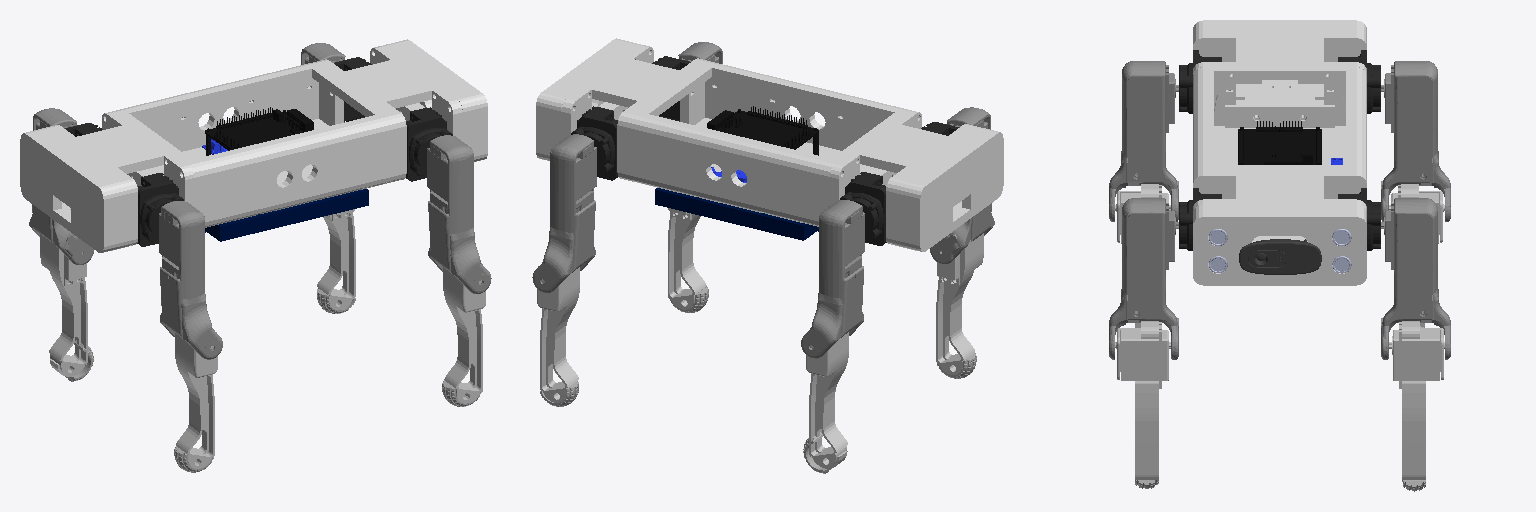
--- Facts derived from the render (not from the file) ---
Views: 3 orthographic renders of the robot side by side, from view 1: azimuth 30°, elevation 25°; view 2: azimuth 150°, elevation 25°; view 3: azimuth 270°, elevation 25°.
Model robot with 25 links and 24 joints (12 revolute, 12 fixed), rooted at base_link, posed all joints at 0.
Visible links, largest first — view 1: base_link, front_right_up_leg, back_right_up_leg, back_left_down_leg, back_right_down_leg, front_right_down_leg, bat, mcu, front_left_down_leg, back_left_up_leg, back_right_hip, front_right_hip (+2 smaller); view 2: base_link, front_left_up_leg, back_left_up_leg, back_right_down_leg, back_left_down_leg, front_left_down_leg, bat, mcu, front_right_down_leg, back_right_up_leg, back_left_hip, front_left_hip (+2 smaller); view 3: base_link, front_right_up_leg, front_left_up_leg, back_left_up_leg, back_right_up_leg, front_right_down_leg, front_left_down_leg, mcu, camera, front_left_hip, front_right_hip, back_left_hip (+3 smaller).
Link boxes in pixels (box(x1,y1,x2,y2)): base_link: box(20, 39, 487, 252); front_right_up_leg: box(427, 135, 491, 293); back_right_up_leg: box(159, 201, 222, 359); back_left_down_leg: box(40, 234, 87, 376); back_right_down_leg: box(175, 332, 217, 468); front_right_down_leg: box(443, 267, 485, 403); bat: box(205, 189, 368, 241); mcu: box(205, 107, 313, 155); front_left_down_leg: box(317, 209, 355, 309); back_left_up_leg: box(29, 108, 93, 264); back_right_hip: box(137, 173, 183, 246); front_right_hip: box(406, 107, 452, 181); base_link: box(536, 38, 1003, 251); front_left_up_leg: box(532, 134, 596, 292); back_left_up_leg: box(801, 200, 864, 358); back_right_down_leg: box(936, 233, 983, 374); back_left_down_leg: box(806, 332, 848, 468); front_left_down_leg: box(537, 266, 579, 402); bat: box(655, 188, 818, 240); mcu: box(707, 106, 818, 155); front_right_down_leg: box(668, 208, 706, 309); back_right_up_leg: box(930, 107, 994, 263); back_left_hip: box(840, 172, 886, 245); front_left_hip: box(571, 106, 617, 180); base_link: box(1193, 20, 1366, 285); front_right_up_leg: box(1109, 198, 1178, 359); front_left_up_leg: box(1381, 198, 1450, 359); back_left_up_leg: box(1381, 61, 1450, 221); back_right_up_leg: box(1109, 61, 1178, 221); front_right_down_leg: box(1115, 321, 1170, 479); front_left_down_leg: box(1389, 321, 1444, 481); mcu: box(1238, 121, 1321, 164); camera: box(1239, 239, 1321, 274); front_left_hip: box(1338, 188, 1380, 250); front_right_hip: box(1179, 188, 1221, 250); back_left_hip: box(1338, 50, 1380, 113).
Size in the robot's own frame: 0.4168 by 0.294 by 0.2826 metres.
Meshes: 25 distinct files referenced, 23 mesh visuals loaded (23 binary STL); not drawn: 2 (reference not matched to a file when rendering).

URDF robot description (robot):
<?xml version="1.0" encoding="utf-8"?>
<!-- This URDF was automatically created by SolidWorks to URDF Exporter! Originally created by Stephen Brawner ([email redacted]) 
     Commit Version: 1.6.0-1-g15f4949  Build Version: 1.6.7594.29634
     For more information, please see http://wiki.ros.org/sw_urdf_exporter -->
<robot
  name="">
  <link
    name="base_link">
    <inertial>
      <origin
        xyz="-2.94569196078176E-05 -3.10940475542129E-06 6.73862554313176E-05"
        rpy="0 0 0" />
      <mass
        value="0.83802" />
      <inertia
        ixx="0.00298196475482295"
        ixy="2.02371463401472E-08"
        ixz="-5.51629935704672E-05"
        iyy="0.00546851882943497"
        iyz="1.4380872450524E-08"
        izz="0.008140876996753" />
    </inertial>
    <visual>
      <origin
        xyz="0 0 0"
        rpy="0 0 0" />
      <geometry>
        <mesh
          filename="../Parts/base_link.STL" />
      </geometry>
      <material
        name="light_grey">
        <color
          rgba="0.9 0.9 0.9 1" />
      </material>
    </visual>
    <collision>
      <origin
        xyz="0 0 0"
        rpy="0 0 0" />
      <geometry>
        <mesh
          filename="../Parts/base_link.STL" />
      </geometry>
    </collision>
  </link>
  <link
    name="jetson">
    <inertial>
      <origin
        xyz="0.000137608891496221 0.000561547209728749 0.00285915771597062"
        rpy="0 0 0" />
      <mass
        value="0.2192" />
      <inertia
        ixx="3.47872013887729E-05"
        ixy="-4.17333287250443E-08"
        ixz="4.4289773664267E-08"
        iyy="1.21851888640573E-05"
        iyz="1.70963570877999E-08"
        izz="4.49402840854233E-05" />
    </inertial>
    <visual>
      <origin
        xyz="0 0 0"
        rpy="0 0 0" />
      <geometry>
        <mesh
          filename="../Parts/jetson.STL" />
      </geometry>
      <material
        name="green">
        <color
          rgba="0.4 0.8 0.01 1" />
      </material>
    </visual>
    <collision>
      <origin
        xyz="0 0 0"
        rpy="0 0 0" />
      <geometry>
        <mesh
          filename="../Parts/jetson.STL" />
      </geometry>
    </collision>
  </link>
  <joint
    name="base_jetson"
    type="fixed">
    <origin
      xyz="-0.06945 0.00131 0.02123"
      rpy="0 0 0" />
    <parent
      link="base_link" />
    <child
      link="jetson" />
    <axis
      xyz="0 0 0" />
  </joint>
  <link
    name="mcu">
    <inertial>
      <origin
        xyz="0.00051378 0.00015168 0.0025873"
        rpy="0 0 0" />
      <mass
        value="0.0514" />
      <inertia
        ixx="6.5721E-06"
        ixy="-3.3312E-07"
        ixz="-2.1562E-07"
        iyy="9.2199E-06"
        iyz="-4.7218E-08"
        izz="1.5389E-05" />
    </inertial>
    <visual>
      <origin
        xyz="0 0 0"
        rpy="0 0 0" />
      <geometry>
        <mesh
          filename="../Parts/mcu.STL" />
      </geometry>
      <material
        name="black">
        <color
          rgba="0.1 0.1 0.1 1" />
      </material>
    </visual>
    <collision>
      <origin
        xyz="0 0 0"
        rpy="0 0 0" />
      <geometry>
        <mesh
          filename="../Parts/mcu.STL" />
      </geometry>
    </collision>
  </link>
  <joint
    name="base_mcu"
    type="fixed">
    <origin
      xyz="0.01363 0.000599999999999989 0.00877999999999995"
      rpy="0 0 0" />
    <parent
      link="base_link" />
    <child
      link="mcu" />
    <axis
      xyz="0 0 0" />
  </joint>
  <link
    name="DC_conv_1">
    <inertial>
      <origin
        xyz="0.000670364608051921 -2.55568593113958E-06 0.00406176040460596"
        rpy="0 0 0" />
      <mass
        value="0.0238" />
      <inertia
        ixx="3.50269405411989E-07"
        ixy="-1.36827641831623E-10"
        ixz="9.21474560580672E-10"
        iyy="7.90837129451917E-07"
        iyz="1.01038593492602E-10"
        izz="1.06490178388781E-06" />
    </inertial>
    <visual>
      <origin
        xyz="0 0 0"
        rpy="0 0 0" />
      <geometry>
        <mesh
          filename="../Parts/DC_conv_1.STL" />
      </geometry>
      <material
        name="blue">
        <color
          rgba="0.2 0.3 1 1" />
      </material>
    </visual>
    <collision>
      <origin
        xyz="0 0 0"
        rpy="0 0 0" />
      <geometry>
        <mesh
          filename="../Parts/DC_conv_1.STL" />
      </geometry>
    </collision>
  </link>
  <joint
    name="base_DC_1"
    type="fixed">
    <origin
      xyz="0.0121341052042018 -0.0485040375014079 -0.0188053898665228"
      rpy="0 0 0" />
    <parent
      link="base_link" />
    <child
      link="DC_conv_1" />
    <axis
      xyz="0 0 0" />
  </joint>
  <link
    name="DC_conv_2">
    <inertial>
      <origin
        xyz="0.00067036 -2.5557E-06 0.0040618"
        rpy="0 0 0" />
      <mass
        value="0.0238" />
      <inertia
        ixx="3.5027E-07"
        ixy="-1.3683E-10"
        ixz="9.2147E-10"
        iyy="7.9084E-07"
        iyz="1.0104E-10"
        izz="1.0649E-06" />
    </inertial>
    <visual>
      <origin
        xyz="0 0 0"
        rpy="0 0 0" />
      <geometry>
        <mesh
          filename="../Parts/DC_conv_2.STL" />
      </geometry>
      <material
        name="blue">
        <color
          rgba="0.2 0.3 1 1" />
      </material>
    </visual>
    <collision>
      <origin
        xyz="0 0 0"
        rpy="0 0 0" />
      <geometry>
        <mesh
          filename="../Parts/DC_conv_2.STL" />
      </geometry>
    </collision>
  </link>
  <joint
    name="base_DC_2"
    type="fixed">
    <origin
      xyz="0.0121341052042018 0.048495962498592 -0.0188053898665228"
      rpy="0 0 0" />
    <parent
      link="base_link" />
    <child
      link="DC_conv_2" />
    <axis
      xyz="0 0 0" />
  </joint>
  <link
    name="ultra_sonic_1">
    <inertial>
      <origin
        xyz="0.00558307557235826 1.28177494792547E-05 -0.000228092989212475"
        rpy="0 0 0" />
      <mass
        value="0.00694288669267032" />
      <inertia
        ixx="5.11965056965854E-07"
        ixy="9.16570373423732E-11"
        ixz="2.1967103165378E-12"
        iyy="4.28857986674802E-07"
        iyz="-2.20850458248682E-09"
        izz="1.98180461179871E-07" />
    </inertial>
    <visual>
      <origin
        xyz="0 0 0"
        rpy="0 0 0" />
      <geometry>
        <mesh
          filename="../Parts/ultra_sonic_1.STL" />
      </geometry>
      <material
        name="light_grey">
        <color
          rgba="0.792156862745098 0.819607843137255 0.933333333333333 1" />
      </material>
    </visual>
    <collision>
      <origin
        xyz="0 0 0"
        rpy="0 0 0" />
      <geometry>
        <mesh
          filename="../Parts/ultra_sonic_1.STL" />
      </geometry>
    </collision>
  </link>
  <joint
    name="base_us_1"
    type="fixed">
    <origin
      xyz="0.18716187777521 -0.0532040375014079 0.00515717013347716"
      rpy="0 0 0" />
    <parent
      link="base_link" />
    <child
      link="ultra_sonic_1" />
    <axis
      xyz="0 0 0" />
  </joint>
  <link
    name="ultra_sonic_2">
    <inertial>
      <origin
        xyz="0.0055831 -1.2818E-05 0.00022809"
        rpy="0 0 0" />
      <mass
        value="0.0069429" />
      <inertia
        ixx="5.1197E-07"
        ixy="-9.1657E-11"
        ixz="-2.1967E-12"
        iyy="4.2886E-07"
        iyz="-2.2085E-09"
        izz="1.9818E-07" />
    </inertial>
    <visual>
      <origin
        xyz="0 0 0"
        rpy="0 0 0" />
      <geometry>
        <mesh
          filename="../Parts/ultra_sonic_2.STL" />
      </geometry>
      <material
        name="light_grey">
        <color
          rgba="0.79216 0.81961 0.93333 1" />
      </material>
    </visual>
    <collision>
      <origin
        xyz="0 0 0"
        rpy="0 0 0" />
      <geometry>
        <mesh
          filename="../Parts/ultra_sonic_2.STL" />
      </geometry>
    </collision>
  </link>
  <joint
    name="base_us_2"
    type="fixed">
    <origin
      xyz="0.18716187777521 0.0531959624985921 0.00423205013347716"
      rpy="0 0 0" />
    <parent
      link="base_link" />
    <child
      link="ultra_sonic_2" />
    <axis
      xyz="0 0 0" />
  </joint>
  <link
    name="camera">
    <inertial>
      <origin
        xyz="-2.32797888843894E-06 3.79642191226416E-06 1.76688735195607E-06"
        rpy="0 0 0" />
      <mass
        value="0.1" />
      <inertia
        ixx="1.00015128600799E-05"
        ixy="-3.38964337578506E-08"
        ixz="1.59588137361042E-08"
        iyy="2.20492049973851E-06"
        iyz="-3.89124551449252E-09"
        izz="9.11771039364902E-06" />
    </inertial>
    <visual>
      <origin
        xyz="0 0 0"
        rpy="0 0 0" />
      <geometry>
        <mesh
          filename="../Parts/camera.STL" />
      </geometry>
      <material
        name="camera">
        <color
          rgba="0.294117647058824 0.294117647058824 0.294117647058824 1" />
      </material>
    </visual>
    <collision>
      <origin
        xyz="0 0 0"
        rpy="0 0 0" />
      <geometry>
        <mesh
          filename="../Parts/camera.STL" />
      </geometry>
    </collision>
  </link>
  <joint
    name="base_camera"
    type="fixed">
    <origin
      xyz="0.20975 0.000570000000000001 0.00548999999999997"
      rpy="0 0 0" />
    <parent
      link="base_link" />
    <child
      link="camera" />
    <axis
      xyz="0 0 0" />
  </joint>
  <link
    name="front_left_hip">
    <inertial>
      <origin
        xyz="0.0288208993064377 0.00598886915303719 -0.00995005834842239"
        rpy="0 0 0" />
      <mass
        value="0.105" />
      <inertia
        ixx="1.59747547470133E-05"
        ixy="-3.09010191301587E-07"
        ixz="-1.36568497564877E-07"
        iyy="2.11284090419884E-05"
        iyz="1.8250481328111E-08"
        izz="1.23589814930974E-05" />
    </inertial>
    <visual>
      <origin
        xyz="0 0 0"
        rpy="0 0 0" />
      <geometry>
        <mesh
          filename="../Parts/front_left_hip.STL" />
      </geometry>
      <material
        name="light_black">
        <color
          rgba="0.2 0.2 0.2 1" />
      </material>
    </visual>
    <collision>
      <origin
        xyz="0 0 0"
        rpy="0 0 0" />
      <geometry>
        <mesh
          filename="../Parts/front_left_hip.STL" />
      </geometry>
    </collision>
  </link>
  <joint
    name="motor_front_left_hip"
    type="revolute">
    <origin
      xyz="0.110683084338582 0.0594959624985922 0.00999460588017018"
      rpy="0 0 0" />
    <parent
      link="base_link" />
    <child
      link="front_left_hip" />
    <axis
      xyz="1 0 0" />
    <limit effort="1000" lower="-0.548" upper="0.548" velocity="0.7"/>
    <dynamics damping="0.0" friction="0.5"/>
  </joint>
  <link
    name="front_left_up_leg">
    <inertial>
      <origin
        xyz="0.0019623 0.031284 -0.039344"
        rpy="0 0 0" />
      <mass
        value="0.145" />
      <inertia
        ixx="0.00012009"
        ixy="-7.5582E-07"
        ixz="-1.6461E-06"
        iyy="0.00011144"
        iyz="-8.5531E-08"
        izz="2.2367E-05" />
    </inertial>
    <visual>
      <origin
        xyz="0 0 0"
        rpy="0 0 0" />
      <geometry>
        <mesh
          filename="../Parts/front_left_up_leg.STL" />
      </geometry>
      <material
        name="grey">
        <color
          rgba="0.6 0.6 0.6 1" />
      </material>
    </visual>
    <collision>
      <origin
        xyz="0 0 0"
        rpy="0 0 0" />
      <geometry>
        <mesh
          filename="../Parts/front_left_up_leg.STL" />
      </geometry>
    </collision>
  </link>
  <joint
    name="motor_front_left_upper_leg"
    type="revolute">
    <origin
      xyz="0.0277514041712069 0.02443 -0.0101447701586943"
      rpy="0 0 0" />
    <parent
      link="front_left_hip" />
    <child
      link="front_left_up_leg" />
    <axis
      xyz="0 1 0" />
    <limit effort="1000" lower="-1.548" upper="2.666" velocity="0.5"/>
    <dynamics damping="0.0" friction="0.0"/>
  </joint>
  <link
    name="front_left_down_leg">
    <inertial>
      <origin
        xyz="-0.000768942712784382 -0.0284168563000375 -0.0307884345476764"
        rpy="0 0 0" />
      <mass
        value="0.110" />
      <inertia
        ixx="8.35507415893145E-05"
        ixy="4.73582093757714E-07"
        ixz="4.78895904672142E-06"
        iyy="7.98081735114618E-05"
        iyz="-4.26175915909378E-06"
        izz="1.11677892138952E-05" />
    </inertial>
    <visual>
      <origin
        xyz="0 0 0"
        rpy="0 0 0" />
      <geometry>
        <mesh
          filename="../Parts/front_left_down_leg.STL" />
      </geometry>
      <material
        name="down">
        <color
          rgba="0.8 0.8 0.8 1" />
      </material>
    </visual>
    <collision>
      <origin
        xyz="0 0 0"
        rpy="0 0 0" />
      <geometry>
        <mesh
          filename="../Parts/front_left_down_leg.STL" />
      </geometry>
    </collision>
  </link>
  <joint
    name="motor_front_left_lower_leg"
    type="revolute">
    <origin
      xyz="0.013898 0.06235 -0.10691"
      rpy="0 0 0" />
    <parent
      link="front_left_up_leg" />
    <child
      link="front_left_down_leg" />
    <axis
      xyz="0 1 0" />
    <limit effort="1000" lower="-2.59" upper="0.1" velocity="0.5"/>
    <dynamics damping="0.0" friction="0.5"/>
  </joint>
  <link
    name="front_left_foot_link">
    <inertial>
      <origin
        xyz="4.3094E-06 5.1838E-07 0.0031299"
        rpy="0 0 0" />
      <mass
        value="0.01" />
      <inertia
        ixx="2.3062E-07"
        ixy="-6.8799E-12"
        ixz="1.219E-07"
        iyy="5.6089E-07"
        iyz="9.7522E-13"
        izz="5.1124E-07" />
    </inertial>
    <visual>
      <origin
        xyz="0 0 0"
        rpy="0 0 0" />
      <geometry>
        <mesh
          filename="../Parts/front_left_foot_link.STL" />
      </geometry>
      <material
        name="foot">
        <color
          rgba="0.69804 0.69804 0.69804 1" />
      </material>
    </visual>
    <collision>
      <origin
        xyz="0 0 0"
        rpy="0 0 0" />
      <geometry>
        <mesh
          filename="../Parts/front_left_foot_link.STL" />
      </geometry>
      <contact_coefficients mu="10.1"/>
    </collision>
  </link>
  <joint
    name="front_left_leg_foot"
    type="fixed">
    <origin
      xyz="-0.003621 -0.0308 -0.12839"
      rpy="0 0 0" />
    <parent
      link="front_left_down_leg" />
    <child
      link="front_left_foot_link" />
    <axis
      xyz="0 0 0" />
  </joint>
  <link
    name="front_right_hip">
    <inertial>
      <origin
        xyz="0.028821 -0.0059889 -0.0099501"
        rpy="0 0 0" />
      <mass
        value="0.105" />
      <inertia
        ixx="1.5975E-05"
        ixy="3.0901E-07"
        ixz="-1.3658E-07"
        iyy="2.1128E-05"
        iyz="-1.8249E-08"
        izz="1.2359E-05" />
    </inertial>
    <visual>
      <origin
        xyz="0 0 0"
        rpy="0 0 0" />
      <geometry>
        <mesh
          filename="../Parts/front_right_hip.STL" />
      </geometry>
      <material
        name="light_black">
        <color
          rgba="0.2 0.2 0.2 1" />
      </material>
    </visual>
    <collision>
      <origin
        xyz="0 0 0"
        rpy="0 0 0" />
      <geometry>
        <mesh
          filename="../Parts/front_right_hip.STL" />
      </geometry>
    </collision>
  </link>
  <joint
    name="motor_front_right_hip"
    type="revolute">
    <origin
      xyz="0.110683084338582 -0.0595040375014077 0.00999460588017051"
      rpy="0 0 0" />
    <parent
      link="base_link" />
    <child
      link="front_right_hip" />
    <axis
      xyz="1 0 0" />
     <limit effort="1000" lower="-0.548" upper="0.548" velocity="0.7"/>
    <dynamics damping="0.0" friction="0.5"/>
  </joint>
  <link
    name="front_right_up_leg">
    <inertial>
      <origin
        xyz="0.00196029884019333 -0.0312778540961644 -0.0393120807459291"
        rpy="0 0 0" />
      <mass
        value="0.145" />
      <inertia
        ixx="0.000120373950910233"
        ixy="7.57910657767681E-07"
        ixz="-1.6411252863915E-06"
        iyy="0.000111690052705349"
        iyz="-1.70804267365478E-08"
        izz="2.24132001480345E-05" />
    </inertial>
    <visual>
      <origin
        xyz="0 0 0"
        rpy="0 0 0" />
      <geometry>
        <mesh
          filename="../Parts/front_right_up_leg.STL" />
      </geometry>
      <material
        name="grey">
        <color
          rgba="0.6 0.6 0.6 1" />
      </material>
    </visual>
    <collision>
      <origin
        xyz="0 0 0"
        rpy="0 0 0" />
      <geometry>
        <mesh
          filename="../Parts/front_right_up_leg.STL" />
      </geometry>
    </collision>
  </link>
  <joint
    name="motor_front_right_upper_leg"
    type="revolute">
    <origin
      xyz="0.0277514041712071 -0.02443 -0.010144770158694"
      rpy="0 0 0" />
    <parent
      link="front_right_hip" />
    <child
      link="front_right_up_leg" />
    <axis
      xyz="0 1 0" />
   <limit effort="1000" lower="-1.548" upper="2.666" velocity="0.5"/>
    <dynamics damping="0.0" friction="0.0"/>
  </joint>
  <link
    name="front_right_down_leg">
    <inertial>
      <origin
        xyz="-0.000769227887700841 0.0284066220277467 -0.030799859311644"
        rpy="0 0 0" />
      <mass
        value="0.110" />
      <inertia
        ixx="8.35497714113655E-05"
        ixy="-4.73581738844522E-07"
        ixz="4.78895913195973E-06"
        iyy="7.98080807304769E-05"
        iyz="4.26175732093425E-06"
        izz="1.11668204485665E-05" />
    </inertial>
    <visual>
      <origin
        xyz="0 0 0"
        rpy="0 0 0" />
      <geometry>
        <mesh
          filename="../Parts/front_right_down_leg.STL" />
      </geometry>
      <material
        name="down">
        <color
          rgba="0.8 0.8 0.8 1" />
      </material>
    </visual>
    <collision>
      <origin
        xyz="0 0 0"
        rpy="0 0 0" />
      <geometry>
        <mesh
          filename="../Parts/front_right_down_leg.STL" />
      </geometry>
    </collision>
  </link>
  <joint
    name="motor_front_right_lower_leg"
    type="revolute">
    <origin
      xyz="0.0138982314148388 -0.0613500007629393 -0.106910485643837"
      rpy="0 0 0" />
    <parent
      link="front_right_up_leg" />
    <child
      link="front_right_down_leg" />
    <axis
      xyz="0 1 0" />
    <limit effort="1000" lower="-2.59" upper="0.1" velocity="0.5"/>
    <dynamics damping="0.0" friction="0.5"/>
  </joint>
  <link
    name="front_right_foot_link">
    <inertial>
      <origin
        xyz="0.0020085 -6.1592E-07 0.0024004"
        rpy="0 0 0" />
      <mass
        value="0.01" />
      <inertia
        ixx="2.2652E-07"
        ixy="-5.9915E-12"
        ixz="1.1701E-07"
        iyy="5.6089E-07"
        iyz="3.311E-12"
        izz="5.1534E-07" />
    </inertial>
    <visual>
      <origin
        xyz="0 0 0"
        rpy="0 0 0" />
      <geometry>
        <mesh
          filename="../Parts/front_right_foot_link.STL" />
      </geometry>
      <material
        name="foot">
        <color
          rgba="0.69804 0.69804 0.69804 1" />
      </material>
    </visual>
    <collision>
      <origin
        xyz="0 0 0"
        rpy="0 0 0" />
      <geometry>
        <mesh
          filename="../Parts/front_right_foot_link.STL" />
      </geometry>
      <contact_coefficients mu="10.1"/>
    </collision>
  </link>
  <joint
    name="front_right_leg_foot"
    type="fixed">
    <origin
      xyz="-0.0052516 0.0308 -0.12779"
      rpy="0 0 0" />
    <parent
      link="front_right_down_leg" />
    <child
      link="front_right_foot_link" />
    <axis
      xyz="0 0 0" />
  </joint>
  <link
    name="back_left_hip">
    <inertial>
      <origin
        xyz="0.028811 0.0060975 -0.0099519"
        rpy="0 0 0" />
      <mass
        value="0.105" />
      <inertia
        ixx="1.6051E-05"
        ixy="-3.1268E-07"
        ixz="-1.3652E-07"
        iyy="2.1235E-05"
        iyz="1.8443E-08"
        izz="1.2437E-05" />
    </inertial>
    <visual>
      <origin
        xyz="0 0 0"
        rpy="0 0 0" />
      <geometry>
        <mesh
          filename="../Parts/back_left_hip.STL" />
      </geometry>
      <material
        name="light_black">
        <color
          rgba="0.2 0.2 0.2 1" />
      </material>
    </visual>
    <collision>
      <origin
        xyz="0 0 0"
        rpy="0 0 0" />
      <geometry>
        <mesh
          filename="../Parts/back_left_hip.STL" />
      </geometry>
    </collision>
  </link>
  <joint
    name="motor_back_left_hip"
    type="revolute">
    <origin
      xyz="-0.168816915661418 0.0594959624985921 0.00999460588017015"
      rpy="0 0 0" />
    <parent
      link="base_link" />
    <child
      link="back_left_hip" />
    <axis
      xyz="1 0 0" />
    <limit effort="1000" lower="-0.548" upper="0.548" velocity="0.7"/>
    <dynamics damping="0.0" friction="0.5"/>
  </joint>
  <link
    name="back_left_up_leg">
    <inertial>
      <origin
        xyz="0.00196027327059189 0.0312778747797474 -0.0393121435264935"
        rpy="0 0 0" />
      <mass
        value="0.145" />
      <inertia
        ixx="0.00012037370428913"
        ixy="-7.5789040396446E-07"
        ixz="-1.64115180986E-06"
        iyy="0.000111689855776008"
        iyz="1.68748977285604E-08"
        izz="2.24132438244875E-05" />
    </inertial>
    <visual>
      <origin
        xyz="0 0 0"
        rpy="0 0 0" />
      <geometry>
        <mesh
          filename="../Parts/back_left_up_leg.STL" />
      </geometry>
      <material
        name="grey">
        <color
          rgba="0.6 0.6 0.6 1" />
      </material>
    </visual>
    <collision>
      <origin
        xyz="0 0 0"
        rpy="0 0 0" />
      <geometry>
        <mesh
          filename="../Parts/back_left_up_leg.STL" />
      </geometry>
    </collision>
  </link>
  <joint
    name="motor_back_left_upper_leg"
    type="revolute">
    <origin
      xyz="0.027751404171207 0.02443 -0.0101447701586938"
      rpy="0 0 0" />
    <parent
      link="back_left_hip" />
    <child
      link="back_left_up_leg" />
    <axis
      xyz="0 1 0" />
    <limit effort="1000" lower="-1.548" upper="2.666" velocity="0.5"/>
    <dynamics damping="0.0" friction="0.0"/>
  </joint>
  <link
    name="back_left_down_leg">
    <inertial>
      <origin
        xyz="-0.00076923 -0.028407 -0.0308"
        rpy="0 0 0" />
      <mass
        value="0.110" />
      <inertia
        ixx="8.355E-05"
        ixy="4.7358E-07"
        ixz="4.789E-06"
        iyy="7.9808E-05"
        iyz="-4.2618E-06"
        izz="1.1167E-05" />
    </inertial>
    <visual>
      <origin
        xyz="0 0 0"
        rpy="0 0 0" />
      <geometry>
        <mesh
          filename="../Parts/back_left_down_leg.STL" />
      </geometry>
      <material
        name="down">
        <color
          rgba="0.8 0.8 0.8 1" />
      </material>
    </visual>
    <collision>
      <origin
        xyz="0 0 0"
        rpy="0 0 0" />
      <geometry>
        <mesh
          filename="../Parts/back_left_down_leg.STL" />
      </geometry>
    </collision>
  </link>
  <joint
    name="motor_back_left_lower_leg"
    type="revolute">
    <origin
      xyz="0.0138982314148385 0.0613500007629395 -0.106910485643837"
      rpy="0 0 0" />
    <parent
      link="back_left_up_leg" />
    <child
      link="back_left_down_leg" />
    <axis
      xyz="0 1 0" />
    <limit effort="1000" lower="-2.59" upper="0.1" velocity="0.5"/>
    <dynamics damping="0.0" friction="0.5"/>
  </joint>
  <link
    name="back_left_foot_link">
    <inertial>
      <origin
        xyz="4.3129E-06 5.1945E-07 0.0031299"
        rpy="0 0 0" />
      <mass
        value="0.01" />
      <inertia
        ixx="2.3062E-07"
        ixy="-6.9427E-12"
        ixz="1.219E-07"
        iyy="5.6089E-07"
        iyz="9.7199E-13"
        izz="5.1124E-07" />
    </inertial>
    <visual>
      <origin
        xyz="0 0 0"
        rpy="0 0 0" />
      <geometry>
        <mesh
          filename="../Parts/back_left_foot_link.STL" />
      </geometry>
      <material
        name="foot">
        <color
          rgba="0.69804 0.69804 0.69804 1" />
      </material>
    </visual>
    <collision>
      <origin
        xyz="0 0 0"
        rpy="0 0 0" />
      <geometry>
        <mesh
          filename="../Parts/back_left_foot_link.STL" />
      </geometry>
      <contact_coefficients mu="10.1"/>
    </collision>
  </link>
  <joint
    name="back_left_leg_foot"
    type="fixed">
    <origin
      xyz="-0.003621 -0.0308 -0.12839"
      rpy="0 0 0" />
    <parent
      link="back_left_down_leg" />
    <child
      link="back_left_foot_link" />
    <axis
      xyz="0 0 0" />
  </joint>
  <link
    name="back_right_hip">
    <inertial>
      <origin
        xyz="0.028821 -0.0059889 -0.0099501"
        rpy="0 0 0" />
      <mass
        value="0.105" />
      <inertia
        ixx="1.5975E-05"
        ixy="3.0901E-07"
        ixz="-1.3658E-07"
        iyy="2.1128E-05"
        iyz="-1.8249E-08"
        izz="1.2359E-05" />
    </inertial>
    <visual>
      <origin
        xyz="0 0 0"
        rpy="0 0 0" />
      <geometry>
        <mesh
          filename="../Parts/back_right_hip.STL" />
      </geometry>
      <material
        name="light_black">
        <color
          rgba="0.2 0.2 0.2 1" />
      </material>
    </visual>
    <collision>
      <origin
        xyz="0 0 0"
        rpy="0 0 0" />
      <geometry>
        <mesh
          filename="../Parts/back_right_hip.STL" />
      </geometry>
    </collision>
  </link>
  <joint
    name="motor_back_right_hip"
    type="revolute">
    <origin
      xyz="-0.16882 -0.059504 0.0099946"
      rpy="0 0 0" />
    <parent
      link="base_link" />
    <child
      link="back_right_hip" />
    <axis
      xyz="1 0 0" />
    <limit effort="1000" lower="-0.548" upper="0.548" velocity="0.7"/>
    <dynamics damping="0.0" friction="0.5"/>
  </joint>
  <link
    name="back_right_up_leg">
    <inertial>
      <origin
        xyz="0.00196029896848632 -0.0312778540731772 -0.0393120806566281"
        rpy="0 0 0" />
      <mass
        value="0.145" />
      <inertia
        ixx="0.000120373950624688"
        ixy="7.57910527525883E-07"
        ixz="-1.64112532574111E-06"
        iyy="0.0001116900524742"
        iyz="-1.70804638646449E-08"
        izz="2.24131998079527E-05" />
    </inertial>
    <visual>
      <origin
        xyz="0 0 0"
        rpy="0 0 0" />
      <geometry>
        <mesh
          filename="../Parts/back_right_up_leg.STL" />
      </geometry>
      <material
        name="grey">
        <color
          rgba="0.6 0.6 0.6 1" />
      </material>
    </visual>
    <collision>
      <origin
        xyz="0 0 0"
        rpy="0 0 0" />
      <geometry>
        <mesh
          filename="../Parts/back_right_up_leg.STL" />
      </geometry>
    </collision>
  </link>
  <joint
    name="motor_back_right_upper_leg"
    type="revolute">
    <origin
      xyz="0.0277514041712071 -0.02443 -0.0101447701586939"
      rpy="0 0 0" />
    <parent
      link="back_right_hip" />
    <child
      link="back_right_up_leg" />
    <axis
      xyz="0 1 0" />
    <limit effort="1000" lower="-1.548" upper="2.666" velocity="0.5"/>
    <dynamics damping="0.0" friction="0.0"/>
  </joint>
  <link
    name="back_right_down_leg">
    <inertial>
      <origin
        xyz="-0.00076923 0.028407 -0.0308"
        rpy="0 0 0" />
      <mass
        value="0.110" />
      <inertia
        ixx="8.355E-05"
        ixy="-4.7358E-07"
        ixz="4.789E-06"
        iyy="7.9808E-05"
        iyz="4.2618E-06"
        izz="1.1167E-05" />
    </inertial>
    <visual>
      <origin
        xyz="0 0 0"
        rpy="0 0 0" />
      <geometry>
        <mesh
          filename="../Parts/back_right_down_leg.STL" />
      </geometry>
      <material
        name="down">
        <color
          rgba="0.8 0.8 0.8 1" />
      </material>
    </visual>
    <collision>
      <origin
        xyz="0 0 0"
        rpy="0 0 0" />
      <geometry>
        <mesh
          filename="../Parts/back_right_down_leg.STL" />
      </geometry>
    </collision>
  </link>
  <joint
    name="motor_back_right_lower_leg"
    type="revolute">
    <origin
      xyz="0.0138982314148385 -0.0613500007629397 -0.106910485643837"
      rpy="0 0 0" />
    <parent
      link="back_right_up_leg" />
    <child
      link="back_right_down_leg" />
    <axis
      xyz="0 1 0" />
    <limit effort="1000" lower="-2.59" upper="0.1" velocity="0.5"/>
    <dynamics damping="0.0" friction="0.5"/>
  </joint>
  <link
    name="back_right_foot_link">
    <inertial>
      <origin
        xyz="0.0020085 -6.1592E-07 0.0024004"
        rpy="0 0 0" />
      <mass
        value="0.01" />
      <inertia
        ixx="2.2652E-07"
        ixy="-5.9915E-12"
        ixz="1.1701E-07"
        iyy="5.6089E-07"
        iyz="3.311E-12"
        izz="5.1534E-07" />
    </inertial>
    <visual>
      <origin
        xyz="0 0 0"
        rpy="0 0 0" />
      <geometry>
        <mesh
          filename="../Parts/back_right_foot_link.STL" />
      </geometry>
      <material
        name="foot">
        <color
          rgba="0.69804 0.69804 0.69804 1" />
      </material>
    </visual>
    <collision>
      <origin
        xyz="0 0 0"
        rpy="0 0 0" />
      <geometry>
        <mesh
          filename="../Parts/back_right_foot_link.STL" />
      </geometry>
      <contact_coefficients mu="10.1"/>
    </collision>
  </link>
  <joint
    name="back_right_leg_foot"
    type="fixed">
    <origin
      xyz="-0.0052516 0.0308 -0.12779"
      rpy="0 0 0" />
    <parent
      link="back_right_down_leg" />
    <child
      link="back_right_foot_link" />
    <axis
      xyz="0 0 0" />
  </joint>
  <link
    name="bat">
    <inertial>
      <origin
        xyz="0.0044148 -8.6736E-18 -0.010522"
        rpy="0 0 0" />
      <mass
        value="0.689" />
      <inertia
        ixx="0.0001001"
        ixy="-1.0172E-20"
        ixz="5.3225E-20"
        iyy="0.00077367"
        iyz="4.1202E-22"
        izz="0.00084007" />
    </inertial>
    <visual>
      <origin
        xyz="0 0 0"
        rpy="0 0 0" />
      <geometry>
        <mesh
          filename="../Parts/bat.STL" />
      </geometry>
      <material
        name="red">
        <color
          rgba="0 0.1 0.3 1" />
      </material>
    </visual>
    <collision>
      <origin
        xyz="0 0 0"
        rpy="0 0 0" />
      <geometry>
        <mesh
          filename="../Parts/bat.STL" />
      </geometry>
    </collision>
  </link>
  <joint
    name="base_bat"
    type="fixed">
    <origin
      xyz="-0.0075669 0 -0.027805"
      rpy="0 0 0" />
    <parent
      link="base_link" />
    <child
      link="bat" />
    <axis
      xyz="0 0 0" />
  </joint>
</robot>
